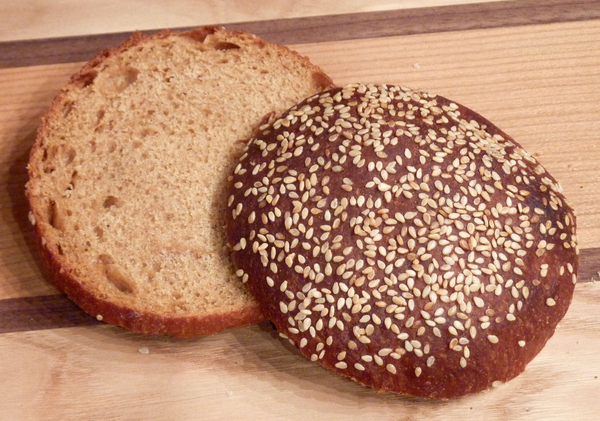burger_bun_bottom: (22, 27, 346, 339)
burger_bun_top: (229, 85, 581, 397)
